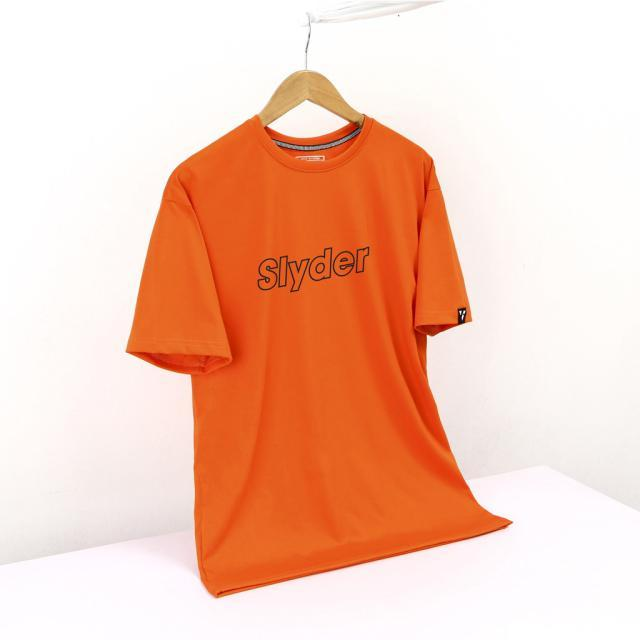Shirt: (120, 109, 520, 602)
